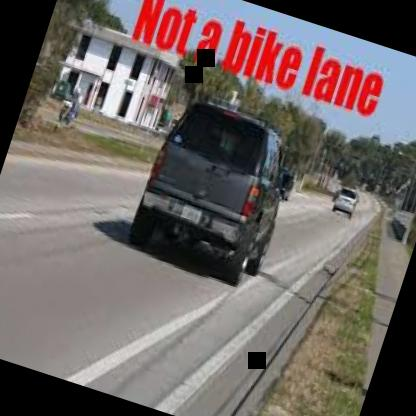car: (106, 68, 318, 320), (326, 180, 366, 230)
